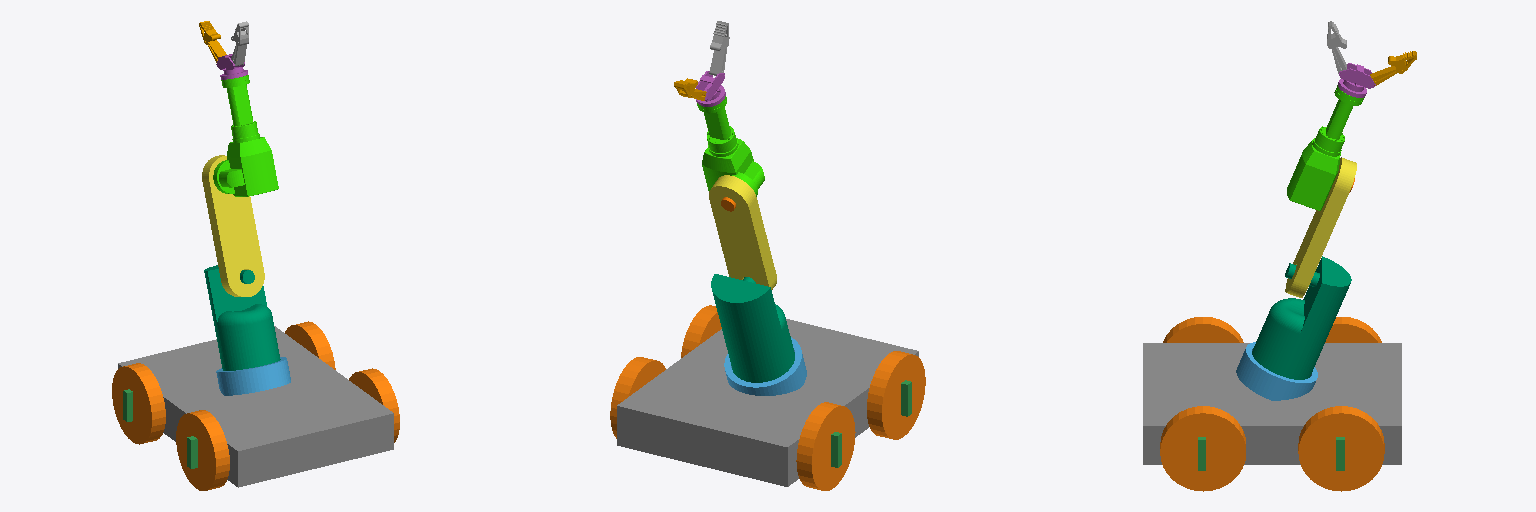
URDF robot description (my_robot):
<?xml version="1.0"?>
<robot name="my_robot">

  <material name="grey">
    <color rgba="0.6 0.6 0.6 1"/>
  </material>

  <material name="orange">
    <color rgba="1 0.55 0.1 1"/>
  </material>

  <material name="green">
    <color rgba="0.25 0.65 0.35 1"/>
  </material>

  <material name="color_f98310">
    <color rgba="0.976471 0.513725 0.062745 1"/>
  </material>

  <material name="color_47ee0e">
    <color rgba="0.278431 0.933333 0.054902 1"/>
  </material>

  <material name="color_bd65bf">
    <color rgba="0.741176 0.396078 0.74902 1"/>
  </material>

  <link name="base_link">
    <visual>
      <origin xyz="0 0 0.05" rpy="0 0 0"/>
      <geometry>
        <box size="0.225 0.3 0.05"/>
      </geometry>
      <material name="grey"/>
    </visual>
  </link>

  <joint name="joint_2" type="continuous">
    <parent link="base_link"/>
    <child link="link_2"/>
    <origin xyz="-0.0225 0.08 0.05" rpy="0 -1.5708 0"/>
    <axis xyz="0 0 1"/>
  </joint>

  <link name="link_2">
    <visual>
      <origin xyz="0 0 0.1" rpy="0 0 0"/>
      <geometry>
        <cylinder radius="0.05" length="0.02"/>
      </geometry>
      <material name="orange"/>
    </visual>
  </link>

  <joint name="joint_3" type="fixed">
    <parent link="link_2"/>
    <child link="link_3"/>
    <origin xyz="0 0.0014 0.0139" rpy="0 0 0"/>
  </joint>

  <link name="link_3">
    <visual>
      <origin xyz="0 0 0.1" rpy="0 0 0"/>
      <geometry>
        <box size="0.04 0.01 0.01"/>
      </geometry>
      <material name="green"/>
    </visual>
  </link>

  <joint name="joint_4" type="continuous">
    <parent link="base_link"/>
    <child link="link_4"/>
    <origin xyz="-0.0225 -0.08 0.05" rpy="0 -1.5708 0"/>
    <axis xyz="0 0 1"/>
  </joint>

  <link name="link_4">
    <visual>
      <origin xyz="0 0 0.1" rpy="0 0 0"/>
      <geometry>
        <cylinder radius="0.05" length="0.02"/>
      </geometry>
      <material name="orange"/>
    </visual>
  </link>

  <joint name="joint_5" type="fixed">
    <parent link="link_4"/>
    <child link="link_5"/>
    <origin xyz="0 0.0014 0.0139" rpy="0 0 0"/>
  </joint>

  <link name="link_5">
    <visual>
      <origin xyz="0 0 0.1" rpy="0 0 0"/>
      <geometry>
        <box size="0.04 0.01 0.01"/>
      </geometry>
      <material name="green"/>
    </visual>
  </link>

  <joint name="joint_6" type="continuous">
    <parent link="base_link"/>
    <child link="link_6"/>
    <origin xyz="0.0225 -0.08 0.05" rpy="0 -1.5708 -3.1416"/>
    <axis xyz="0 0 1"/>
  </joint>

  <link name="link_6">
    <visual>
      <origin xyz="0 0 0.1" rpy="0 0 0"/>
      <geometry>
        <cylinder radius="0.05" length="0.02"/>
      </geometry>
      <material name="orange"/>
    </visual>
  </link>

  <joint name="joint_7" type="fixed">
    <parent link="link_6"/>
    <child link="link_7"/>
    <origin xyz="0 0.0014 0.0139" rpy="0 0 0"/>
  </joint>

  <link name="link_7">
    <visual>
      <origin xyz="0 0 0.1" rpy="0 0 0"/>
      <geometry>
        <box size="0.04 0.01 0.01"/>
      </geometry>
      <material name="green"/>
    </visual>
  </link>

  <joint name="joint_8" type="continuous">
    <parent link="base_link"/>
    <child link="link_8"/>
    <origin xyz="0.0225 0.08 0.05" rpy="0 -1.5708 3.1416"/>
    <axis xyz="0 0 1"/>
  </joint>

  <link name="link_8">
    <visual>
      <origin xyz="0 0 0.1" rpy="0 0 0"/>
      <geometry>
        <cylinder radius="0.05" length="0.02"/>
      </geometry>
      <material name="orange"/>
    </visual>
  </link>

  <joint name="joint_9" type="fixed">
    <parent link="link_8"/>
    <child link="link_9"/>
    <origin xyz="0 0.0014 0.0139" rpy="0 0 0"/>
  </joint>

  <link name="link_9">
    <visual>
      <origin xyz="0 0 0.1" rpy="0 0 0"/>
      <geometry>
        <box size="0.04 0.01 0.01"/>
      </geometry>
      <material name="green"/>
    </visual>
  </link>

  <joint name="joint_10" type="fixed">
    <parent link="base_link"/>
    <child link="link_10"/>
    <origin xyz="0 0 0.075" rpy="-0.3739 0 0"/>
  </joint>

  <link name="link_10">
    <inertial>
      <origin xyz="0 0 0.012636554" rpy="0 0 0"/>
      <mass value="0.5"/>
      <inertia ixx="0.000297646" ixy="0" ixz="0" iyy="0.000297646" iyz="0" izz="0.000537695"/>
    </inertial>
    <visual>
      <origin xyz="0 0 0" rpy="0 0 0"/>
      <geometry>
        <mesh filename="package://model/meshes/p1.stl" scale="0.75 0.75 0.75"/>
      </geometry>
    </visual>
  </link>

  <joint name="joint_11" type="revolute">
    <parent link="link_10"/>
    <child link="link_11"/>
    <origin xyz="0 0 0" rpy="0 0 0"/>
    <axis xyz="0 0 1"/>
    <limit lower="-1.570796327" upper="1.570796327" effort="10" velocity="2"/>
  </joint>

  <link name="link_11">
    <inertial>
      <origin xyz="2.27e-7 0.004010783 0.080596905" rpy="0 0 0"/>
      <mass value="0.5"/>
      <inertia ixx="0.000857851" ixy="5.1099e-9" ixz="3.79456e-9" iyy="0.000862913" iyz="-0.000090925" izz="0.000324887"/>
    </inertial>
    <visual>
      <origin xyz="0 0 0" rpy="0 0 0"/>
      <geometry>
        <mesh filename="package://model/meshes/p2.stl" scale="0.75 0.75 0.75"/>
      </geometry>
    </visual>
  </link>

  <joint name="joint_12" type="revolute">
    <parent link="link_11"/>
    <child link="link_12"/>
    <origin xyz="0.0001 -0.011 0.1432" rpy="0 0 0"/>
    <axis xyz="0 1 0"/>
    <limit lower="-1.570796327" upper="1.570796327" effort="10" velocity="2"/>
  </joint>

  <link name="link_12">
    <inertial>
      <origin xyz="0 -0.009375 0.06375" rpy="0 0 0"/>
      <mass value="0.5"/>
      <inertia ixx="0.00116083" ixy="0" ixz="0" iyy="0.00126041" iyz="0" izz="0.000128873"/>
    </inertial>
    <visual>
      <origin xyz="0 0 0" rpy="0 0 0"/>
      <geometry>
        <mesh filename="package://model/meshes/p3.stl" scale="0.75 0.75 0.75"/>
      </geometry>
    </visual>
  </link>

  <joint name="joint_13" type="fixed">
    <parent link="link_12"/>
    <child link="link_13"/>
    <origin xyz="-0.0001 0.0039 0.1274" rpy="0 0 0"/>
  </joint>

  <link name="link_13">
    <inertial>
      <origin xyz="0 -0.020550001 0" rpy="0 0 0"/>
      <mass value="0.5"/>
      <inertia ixx="0.0000810037" ixy="0" ixz="0" iyy="0.0000202104" iyz="0" izz="0.0000810037"/>
    </inertial>
    <visual>
      <origin xyz="0 0 0" rpy="0 0 0"/>
      <geometry>
        <mesh filename="package://model/meshes/p6.stl" scale="0.75 0.75 0.75"/>
      </geometry>
      <material name="color_f98310"/>
    </visual>
  </link>

  <joint name="joint_14" type="fixed">
    <parent link="link_13"/>
    <child link="link_14"/>
    <origin xyz="0.0224 -0.0487 -0.0253" rpy="0 0 -1.5708"/>
  </joint>

  <link name="link_14">
    <inertial>
      <origin xyz="-0.0008014 -0.002812956 0.048669385" rpy="0 0 0"/>
      <mass value="0.5"/>
      <inertia ixx="0.000787538" ixy="-0.0000105752" ixz="-0.00000948456" iyy="0.00075363" iyz="-0.0000332907" izz="0.000165522"/>
    </inertial>
    <visual>
      <origin xyz="0 0 0" rpy="0 0 0"/>
      <geometry>
        <mesh filename="package://model/meshes/p44.stl" scale="0.5 0.5 0.5"/>
      </geometry>
      <material name="color_47ee0e"/>
    </visual>
  </link>

  <joint name="joint_15" type="fixed">
    <parent link="link_14"/>
    <child link="link_15"/>
    <origin xyz="0 0 0.1482" rpy="0 0 0"/>
  </joint>

  <link name="link_15">
    <inertial>
      <origin xyz="-2.18e-7 -0.00050454 0.008575293" rpy="0 0 0"/>
      <mass value="0.5"/>
      <inertia ixx="0.0000580028" ixy="4.01823e-11" ixz="3.84602e-10" iyy="0.000065773" iyz="0.00000274147" izz="0.000070296"/>
    </inertial>
    <visual>
      <origin xyz="0 0 0" rpy="0 0 0"/>
      <geometry>
        <mesh filename="package://model/meshes/p7.stl" scale="0.5 0.5 0.5"/>
      </geometry>
      <material name="color_bd65bf"/>
    </visual>
  </link>

  <joint name="joint_17" type="revolute">
    <parent link="link_15"/>
    <child link="link_17"/>
    <origin xyz="0.0212 -0.0019 0.017" rpy="0 0 -3.1416"/>
    <axis xyz="0 1 0"/>
    <limit lower="-1.570796327" upper="-0.174532925" effort="10" velocity="2"/>
  </joint>

  <link name="link_17">
    <inertial>
      <origin xyz="0.010701655 -0.00001342 0.027035755" rpy="0 0 0"/>
      <mass value="0.5"/>
      <inertia ixx="0.000141538" ixy="1.59908e-8" ixz="-0.0000368439" iyy="0.000155079" iyz="1.50181e-7" izz="0.0000273631"/>
    </inertial>
    <visual>
      <origin xyz="0 0 0" rpy="0 0 0"/>
      <geometry>
        <mesh filename="package://model/meshes/p8.stl" scale="0.5 0.5 0.5"/>
      </geometry>
    </visual>
  </link>

  <joint name="joint_16" type="revolute">
    <parent link="link_15"/>
    <child link="link_16"/>
    <origin xyz="-0.0211 -0.0019 0.017" rpy="0 0 0"/>
    <axis xyz="0 1 0"/>
    <limit lower="-1.570796327" upper="-0.174532925" effort="10" velocity="2"/>
  </joint>

  <link name="link_16">
    <inertial>
      <origin xyz="0.010701655 -0.00001342 0.027035755" rpy="0 0 0"/>
      <mass value="0.5"/>
      <inertia ixx="0.000141538" ixy="1.59908e-8" ixz="-0.0000368439" iyy="0.000155079" iyz="1.50181e-7" izz="0.0000273631"/>
    </inertial>
    <visual>
      <origin xyz="0 0 0" rpy="0 0 0"/>
      <geometry>
        <mesh filename="package://model/meshes/p8.stl" scale="0.5 0.5 0.5"/>
      </geometry>
    </visual>
  </link>

</robot>

--- Render facts (derived) ---
The picture shows the robot from 3 angles, left to right: view 1: azimuth 30°, elevation 25°; view 2: azimuth 150°, elevation 25°; view 3: azimuth 270°, elevation 25°; orthographic projection.
Model my_robot with 17 links and 16 joints (4 revolute, 4 continuous, 8 fixed), rooted at base_link, posed joints at zero except 2 at the middle of their limits (joint_17 = -0.8727, joint_16 = -0.8727).
Links seen in each view (by area): view 1: base_link, link_11, link_12, link_14, link_2, link_4, link_10, link_6, link_8, link_17, link_16; view 2: base_link, link_11, link_12, link_4, link_2, link_14, link_10, link_8, link_6, link_17, link_15; view 3: base_link, link_11, link_6, link_8, link_14, link_12, link_10, link_4, link_2, link_15, link_16, link_17.
Boxes of the visible links, x1,y1,x2,y2 form: base_link: [118, 326, 393, 487]; link_11: [204, 265, 280, 370]; link_12: [202, 155, 264, 296]; link_14: [213, 75, 278, 196]; link_2: [112, 363, 165, 444]; link_4: [176, 410, 229, 490]; link_10: [216, 357, 290, 395]; link_6: [349, 368, 399, 442]; link_8: [285, 321, 335, 369]; link_17: [231, 21, 248, 65]; link_16: [199, 21, 226, 62]; base_link: [617, 319, 918, 486]; link_11: [711, 274, 794, 382]; link_12: [709, 175, 776, 289]; link_4: [867, 351, 925, 439]; link_2: [796, 402, 855, 490]; link_14: [697, 96, 764, 196]; link_10: [724, 337, 806, 395]; link_8: [610, 357, 665, 438]; link_6: [681, 305, 721, 357]; link_17: [709, 21, 729, 75]; link_15: [696, 71, 725, 106]; base_link: [1143, 343, 1401, 464]; link_11: [1252, 256, 1351, 379]; link_6: [1160, 406, 1245, 491]; link_8: [1298, 406, 1384, 491]; link_14: [1287, 85, 1364, 210]; link_12: [1285, 157, 1356, 297]; link_10: [1236, 342, 1317, 400]; link_4: [1163, 317, 1243, 342]; link_2: [1325, 317, 1381, 342]; link_15: [1338, 63, 1375, 97]; link_16: [1370, 51, 1416, 85]; link_17: [1327, 21, 1346, 73].
Size in the robot's own frame: 0.2828 by 0.3176 by 0.5465 metres.
8 mesh visuals loaded from 7 distinct referenced files (7 binary STL).
